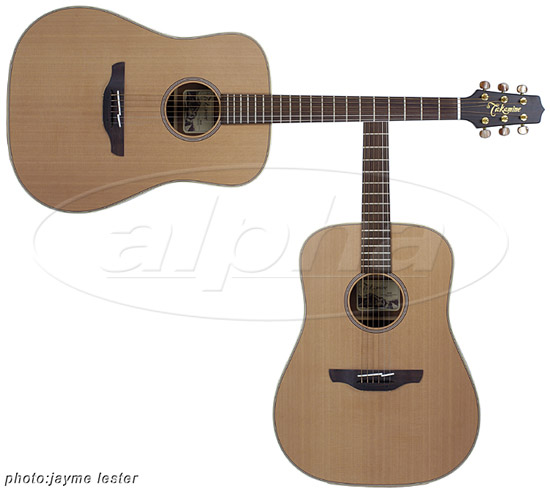guitar: (7, 6, 544, 215), (271, 121, 481, 488)
